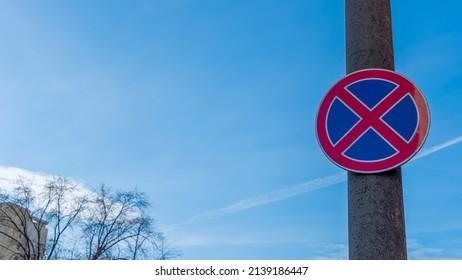No Stopping: (308, 45, 442, 187)
